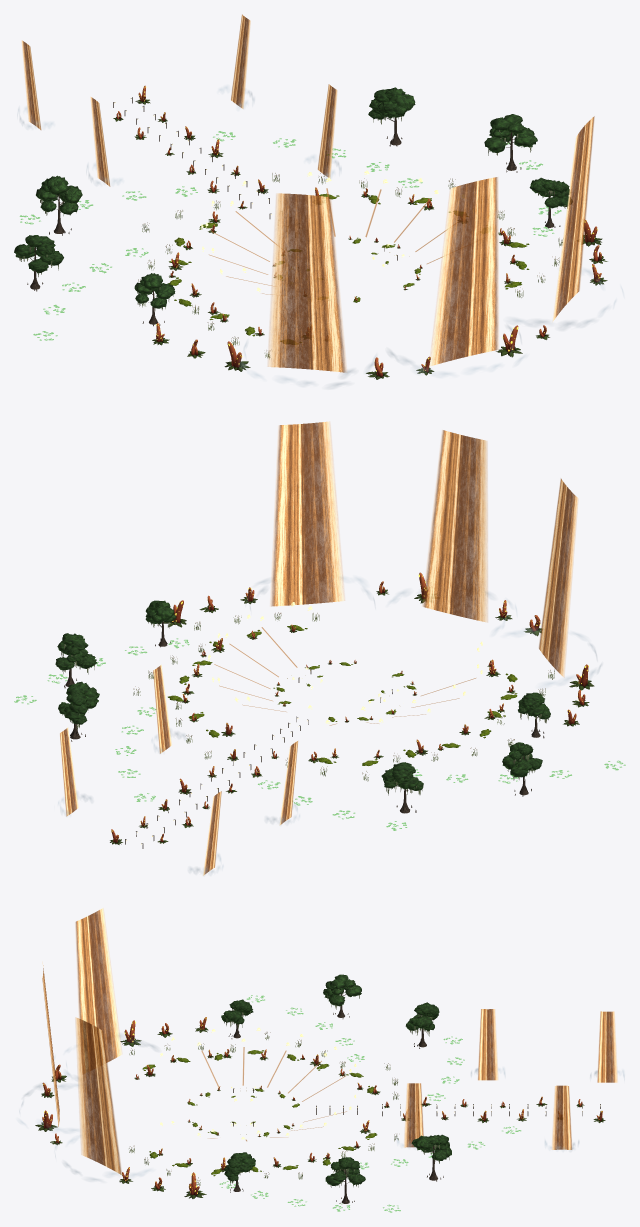
Rendered from mwm_bake_deco.glb.
The picture shows the model from 3 angles, top to bottom: view 1: azimuth 30°, elevation 25°; view 2: azimuth 150°, elevation 25°; view 3: azimuth 270°, elevation 25°; orthographic projection. The views are drawn at different scales.
Visible parts, largest first — view 1: lantern_post.glb; view 2: lantern_post.glb; view 3: lantern_post.glb.
Boxes of the visible parts, box(x1,y1,x2,y2) form: lantern_post.glb: box(14, 14, 623, 388); lantern_post.glb: box(14, 421, 625, 875); lantern_post.glb: box(18, 908, 624, 1212).
Size of the model in its own units: 452 by 141 by 538.
Materials: 30 (16 with a texture image).
